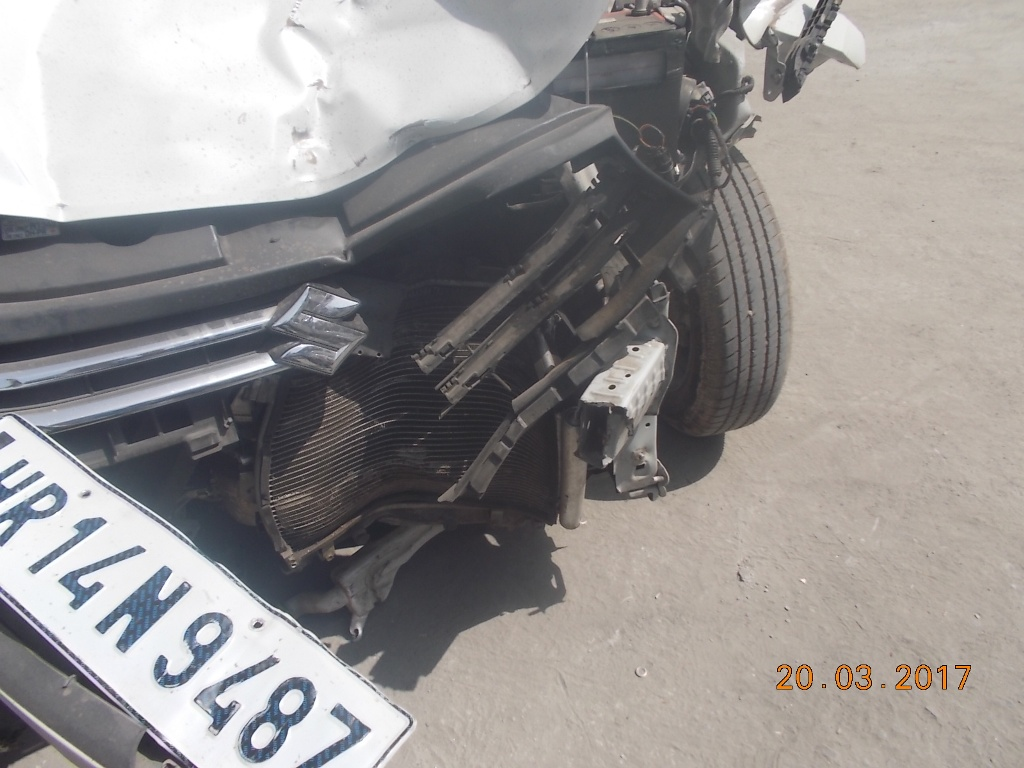Large_tear_or_damage: (30, 23, 836, 580)
